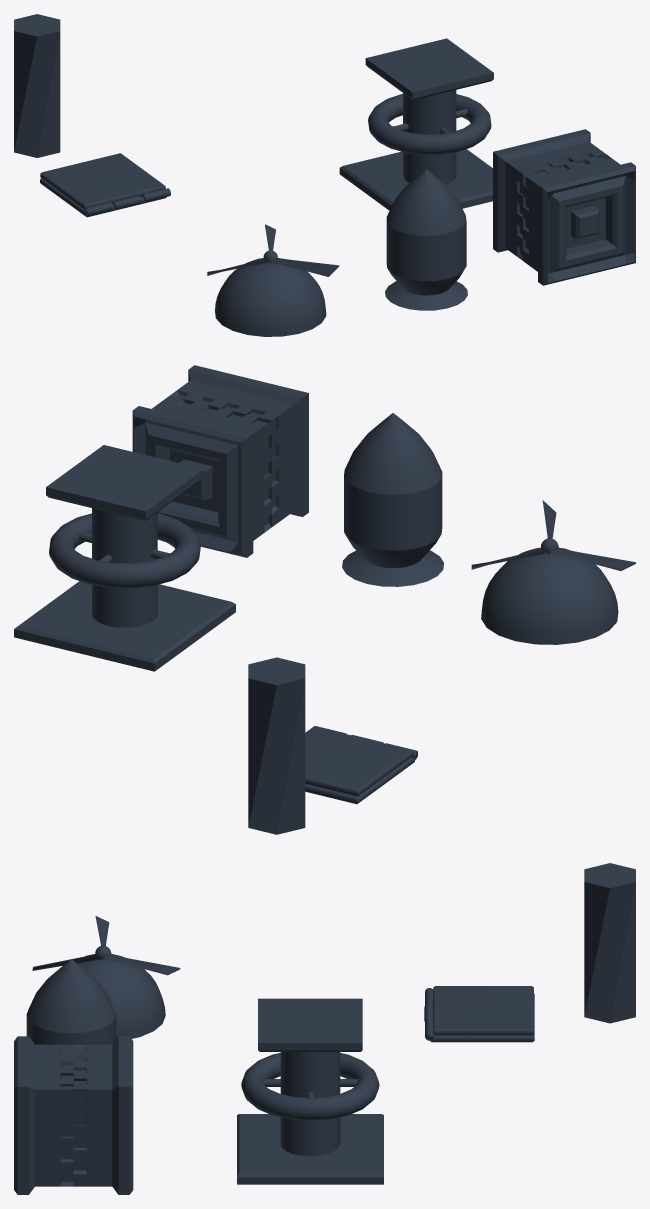
File: Robot_parts.fbx
The picture shows the model from 3 angles, top to bottom: view 1: azimuth 30°, elevation 25°; view 2: azimuth 150°, elevation 25°; view 3: azimuth 270°, elevation 25°; orthographic projection. The views are drawn at different scales.
Visible parts, largest first — view 1: Body, Pressure_Bottom, Jet, Propeller_Body, Connection, Pressure_Top, Hinge_Top, Propeller_Fans, Hinge_Bottom; view 2: Body, Pressure_Bottom, Jet, Propeller_Body, Connection, Pressure_Top, Hinge_Top, Propeller_Fans, Hinge_Bottom; view 3: Pressure_Bottom, Body, Connection, Jet, Pressure_Top, Hinge_Top, Propeller_Body, Propeller_Fans, Hinge_Bottom.
Boxes of the visible parts, <box> form: Body: <box>493,129,635,285</box>; Pressure_Bottom: <box>339,90,492,210</box>; Jet: <box>385,169,467,310</box>; Propeller_Body: <box>215,250,326,336</box>; Connection: <box>14,14,60,157</box>; Pressure_Top: <box>365,38,493,100</box>; Hinge_Top: <box>40,153,165,209</box>; Propeller_Fans: <box>207,224,339,276</box>; Hinge_Bottom: <box>40,178,170,217</box>; Body: <box>132,365,308,557</box>; Pressure_Bottom: <box>14,508,235,671</box>; Jet: <box>342,413,443,586</box>; Propeller_Body: <box>481,538,618,644</box>; Connection: <box>248,657,305,834</box>; Pressure_Top: <box>46,445,203,520</box>; Hinge_Top: <box>305,726,412,796</box>; Propeller_Fans: <box>471,500,635,570</box>; Hinge_Bottom: <box>305,726,417,804</box>; Pressure_Bottom: <box>237,1052,383,1184</box>; Body: <box>14,1036,133,1194</box>; Connection: <box>584,863,635,1023</box>; Jet: <box>26,959,116,1044</box>; Pressure_Top: <box>258,998,362,1051</box>; Hinge_Top: <box>424,986,533,1035</box>; Propeller_Body: <box>77,945,165,1038</box>; Propeller_Fans: <box>32,916,180,975</box>; Hinge_Bottom: <box>425,988,534,1042</box>.
Bounding box in the file's own units: 16.95 × 5.22 × 20.83.
